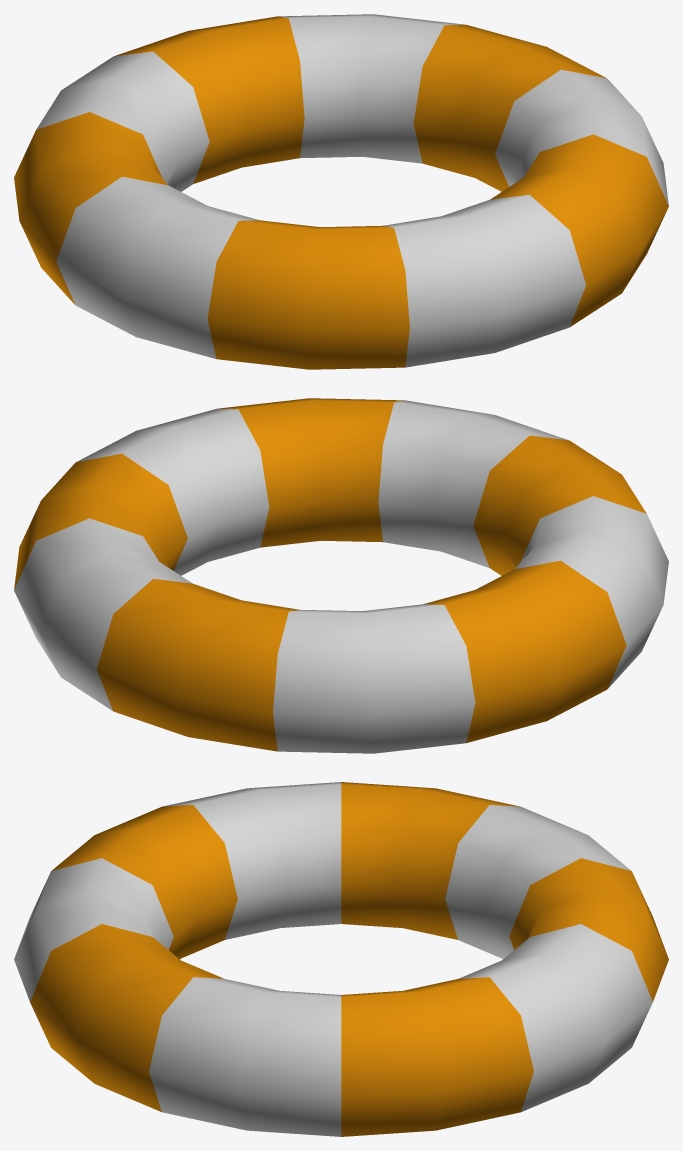
The model's file is lifebuoy.fbx.
3 renders of one model, top to bottom at view 1: azimuth 30°, elevation 25°; view 2: azimuth 150°, elevation 25°; view 3: azimuth 270°, elevation 25°, orthographic.
Parts seen in each view (by area): view 1: lifebuoy; view 2: lifebuoy; view 3: lifebuoy.
Boxes of the visible parts, x1=… form: lifebuoy: x1=14, y1=14, x2=668, y2=369; lifebuoy: x1=14, y1=398, x2=668, y2=753; lifebuoy: x1=14, y1=782, x2=668, y2=1136.
Size of the model in its own units: 383 by 88.49 by 383.
